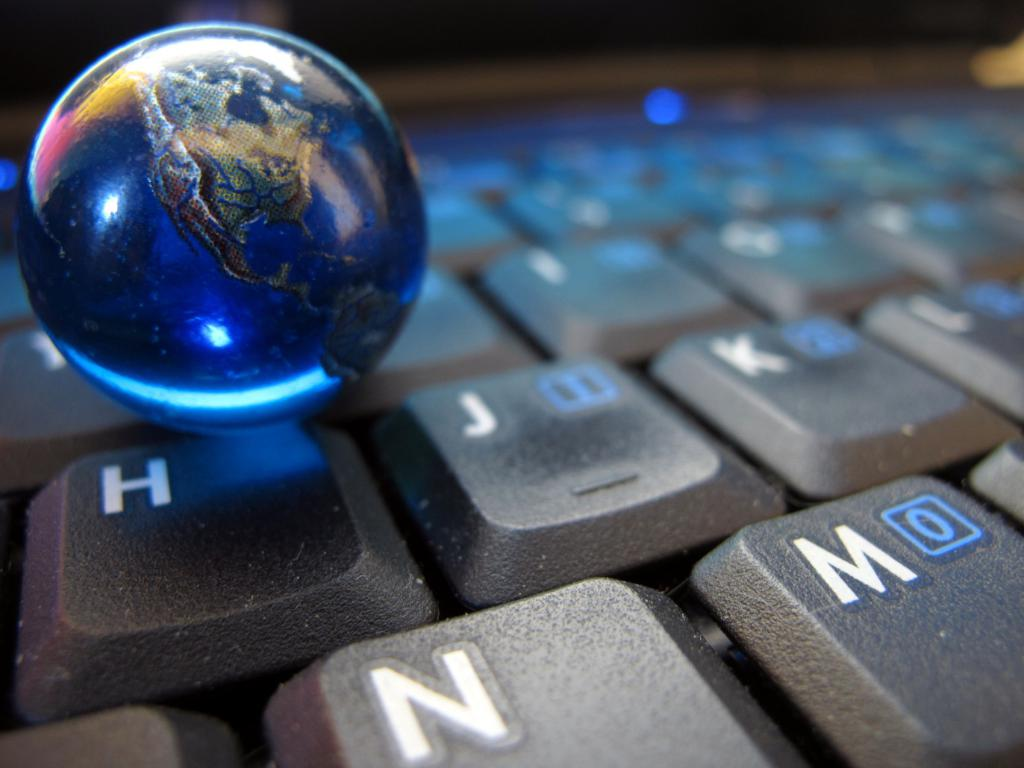Ball: (13, 21, 431, 433)
